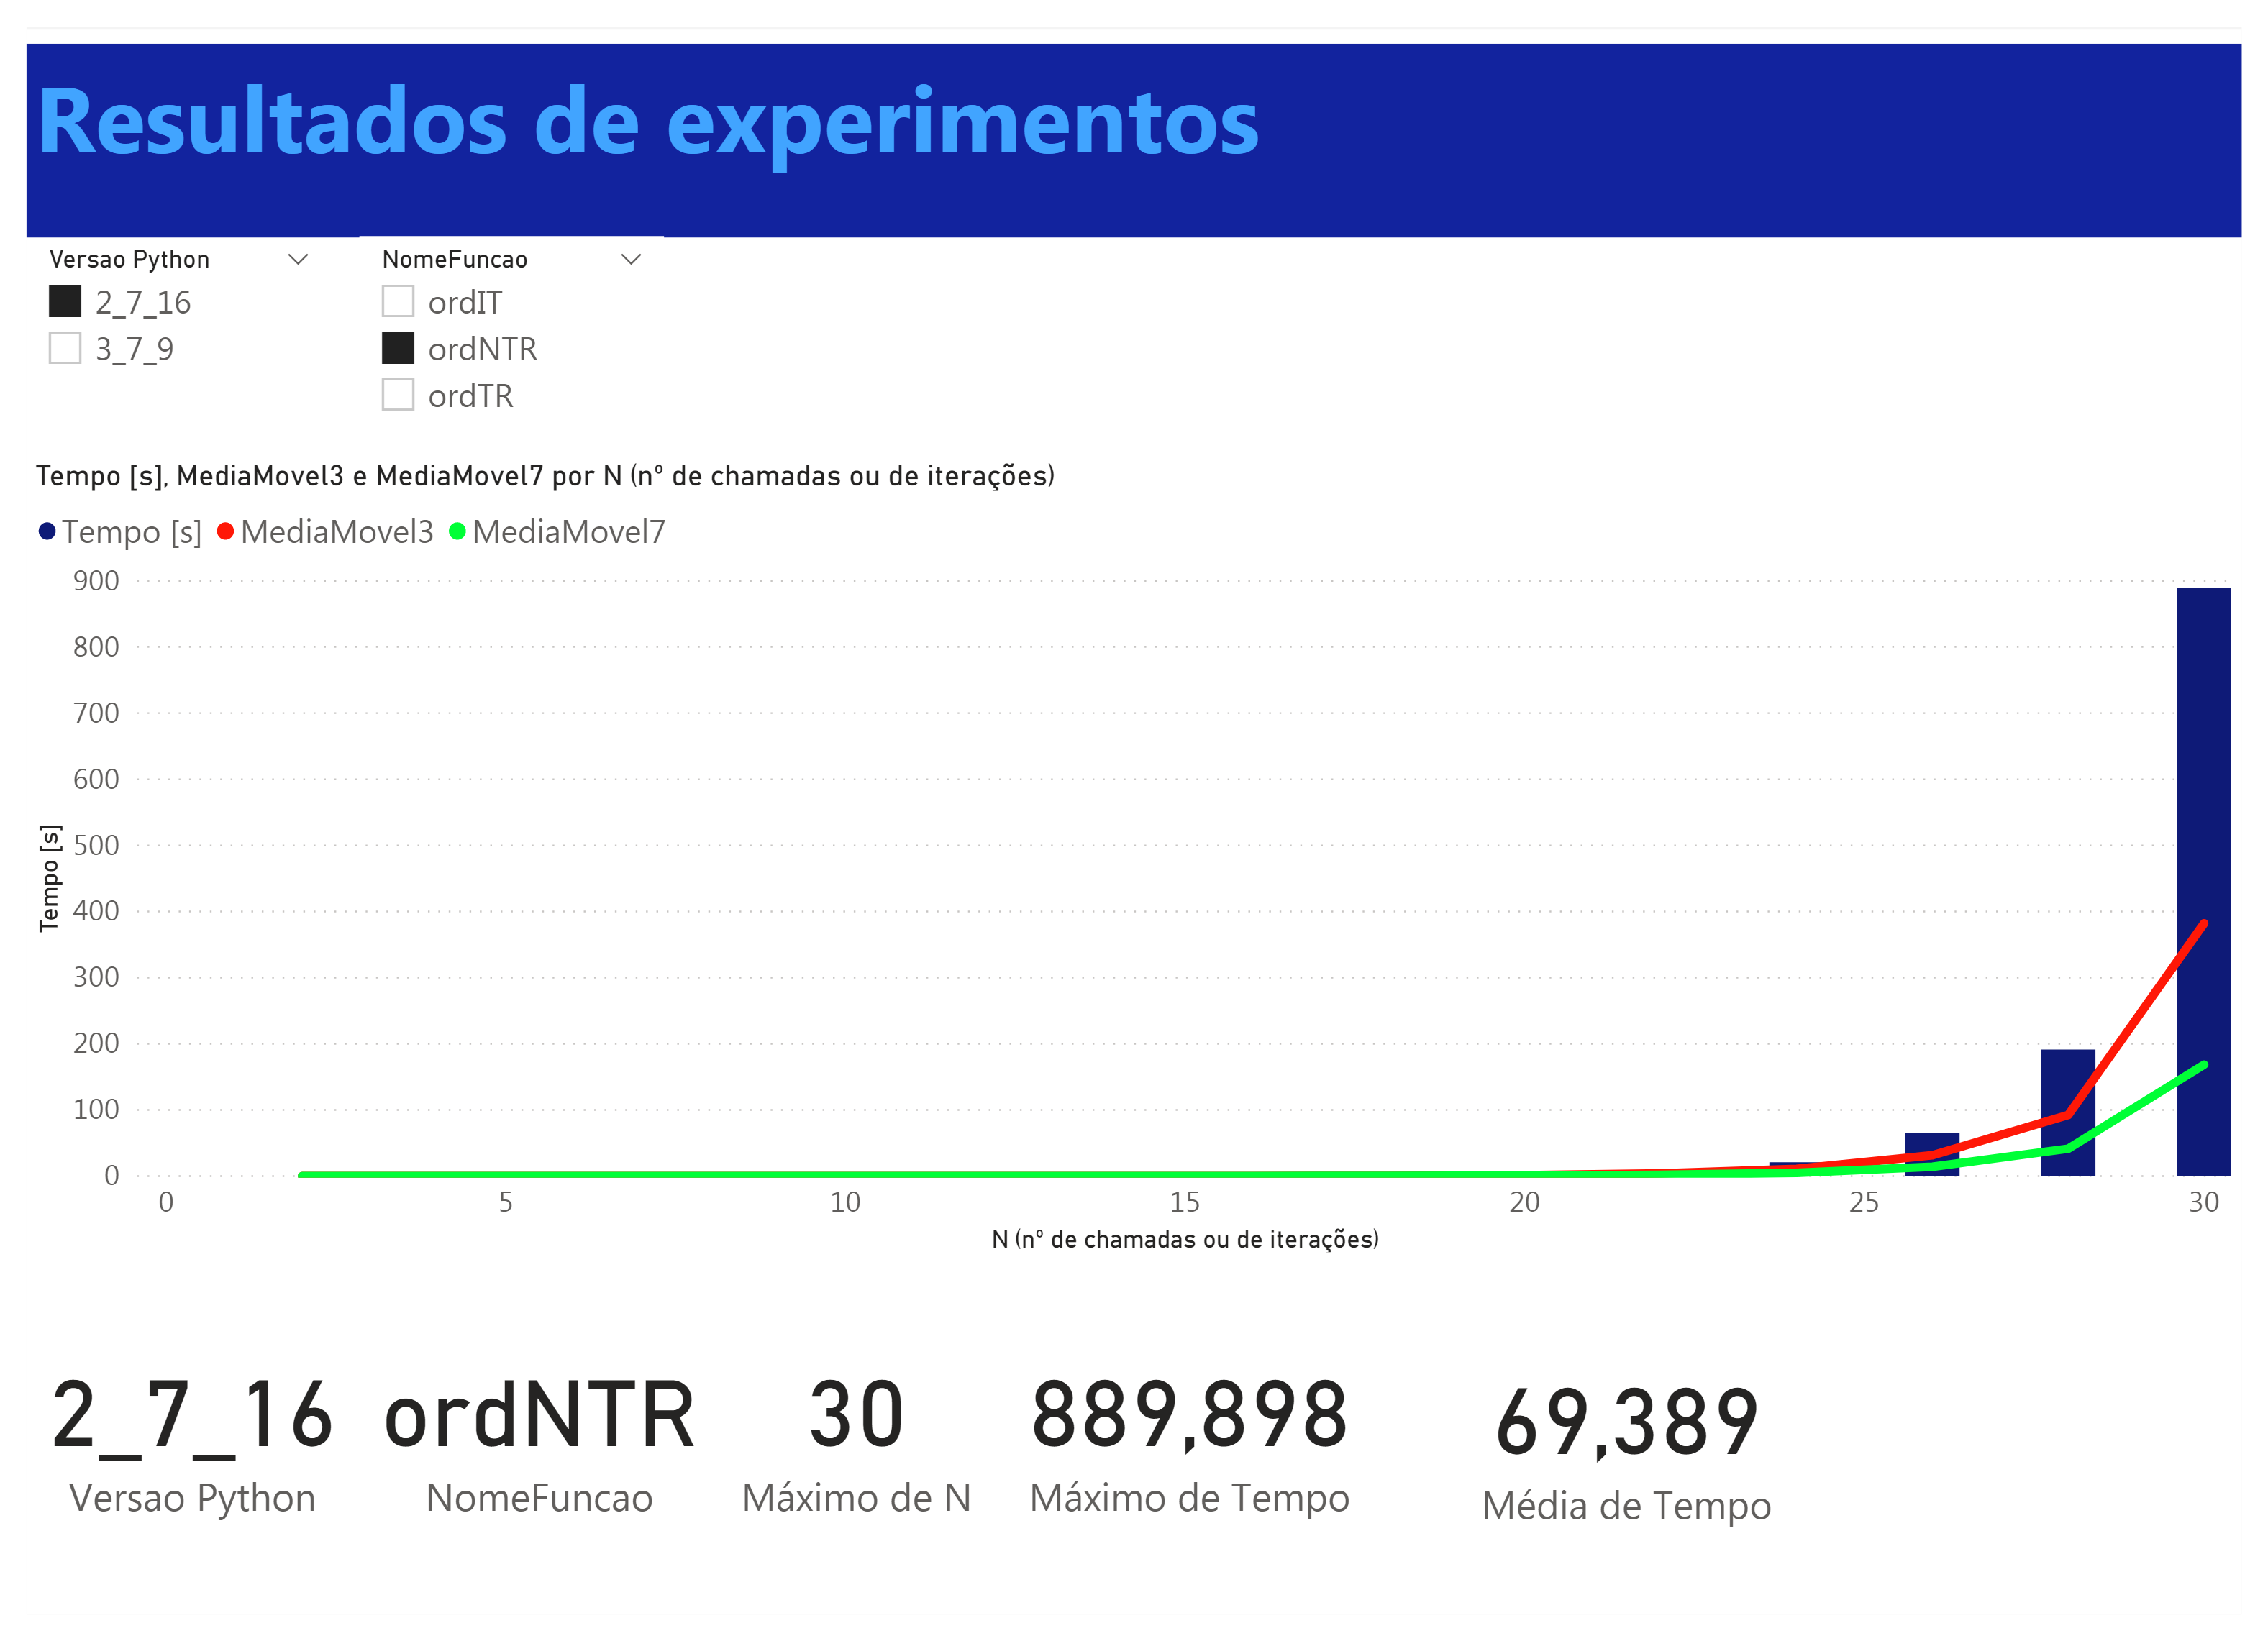

Layout of this report page (visuals, bound fields, positions):
{"tool":"powerbi","page":{"name":"Primo","canvas":[1280,900],"ordinal":10},"visuals":[{"type":"card","fields":{"Values":["Max(Tabela1.Tempo)"]},"box":[600,744,216,120],"z":0},{"type":"card","fields":{"Values":["Min(Tabela1.NomeFuncao)"]},"box":[192,720,216,168],"z":1000},{"type":"card","fields":{"Values":["Max(Tabela1.N)"]},"box":[408,720,168,168],"z":2000},{"type":"card","fields":{"Values":["Avg(Tabela1.Tempo)"]},"box":[840,744,192,120],"z":3000},{"type":"slicer","fields":{"Values":["Tabela1.Versao Python"]},"box":[0,112,176,112],"z":4000},{"type":"card","fields":{"Values":["Min(Tabela1.Versao Python)"]},"box":[0,704,192,192],"z":5000},{"type":"textbox","box":[0,0,1280,112],"z":6000},{"type":"slicer","fields":{"Values":["Tabela1.NomeFuncao"]},"box":[192,112,176,112],"z":7000},{"type":"lineClusteredColumnComboChart","fields":{"Y":["Sum(Tabela1.Tempo)"],"Category":["Tabela1.N"],"Y2":["Tabela1.MediaMovel7","Tabela1.MediaMovel7Numeros"]},"box":[0,224,1248,480],"z":8000}]}

Visuals, with their boxes in screenshot pixels (x1, y1, x2, y2), scaled from the page's 1280x900 canvas onto the 2268x1641 screenshot:
card - Max(Tabela1.Tempo): [1063,1356,1446,1576]
card - Min(Tabela1.NomeFuncao): [340,1313,723,1619]
card - Max(Tabela1.N): [723,1313,1021,1619]
card - Avg(Tabela1.Tempo): [1488,1356,1828,1576]
slicer - Tabela1.Versao Python: [0,204,312,408]
card - Min(Tabela1.Versao Python): [0,1284,340,1634]
textbox: [0,0,2267,204]
slicer - Tabela1.NomeFuncao: [340,204,652,408]
lineClusteredColumnComboChart - Sum(Tabela1.Tempo) x Tabela1.N: [0,408,2211,1284]
